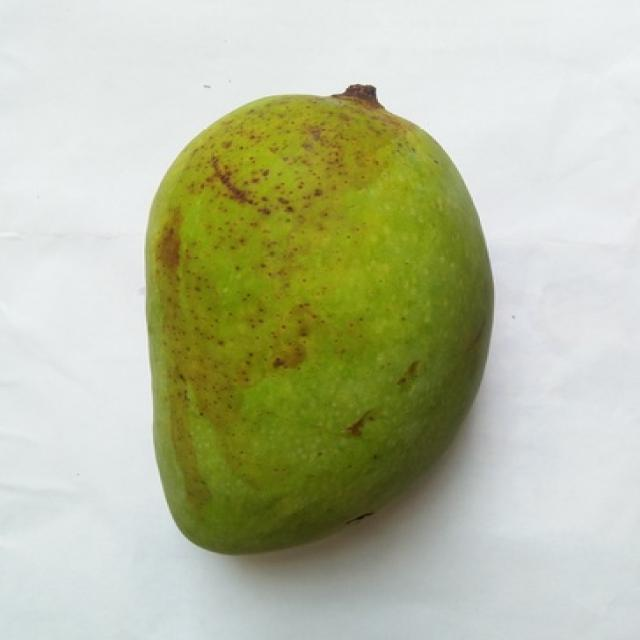Mango: (148, 92, 492, 551)
